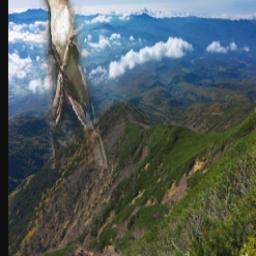Cuckoo: (39, 0, 108, 169)
